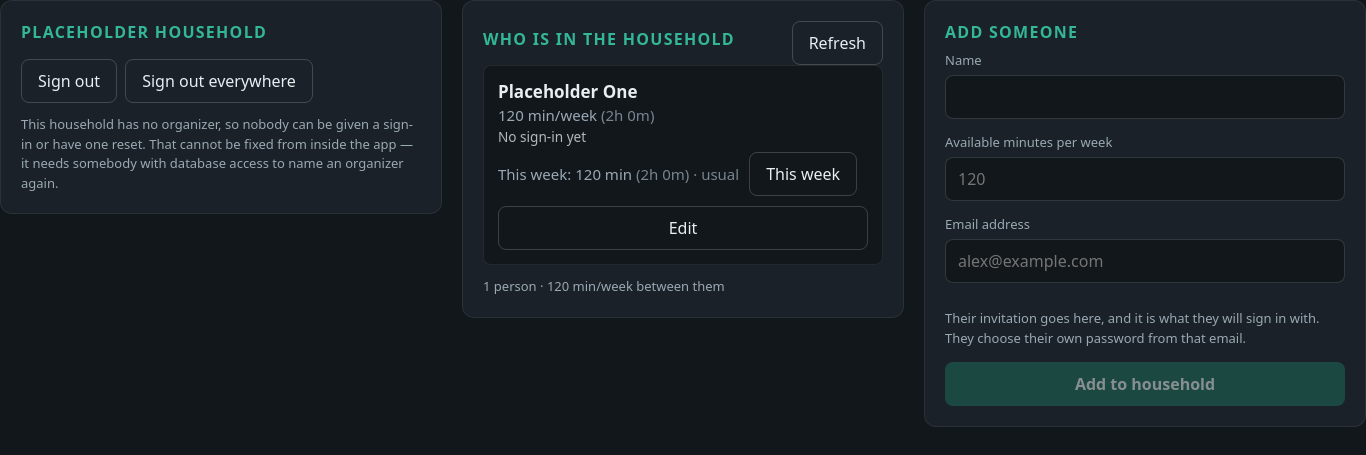
Test: editing and removing — AC 4 › starts the address field at what the row already holds, so a save is not a wipe
Click the button "Edit". click: (683, 228)
box: [498,206,868,250]
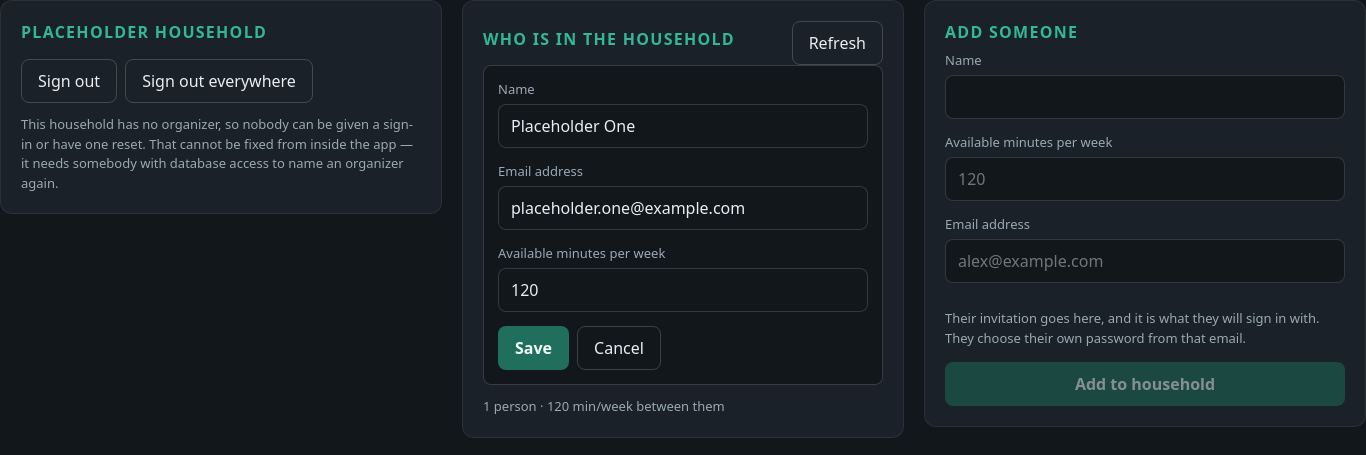
Check: the field named "email address for placeholder one" holds "placeholder.one@example.com", box [498,186,868,230]
